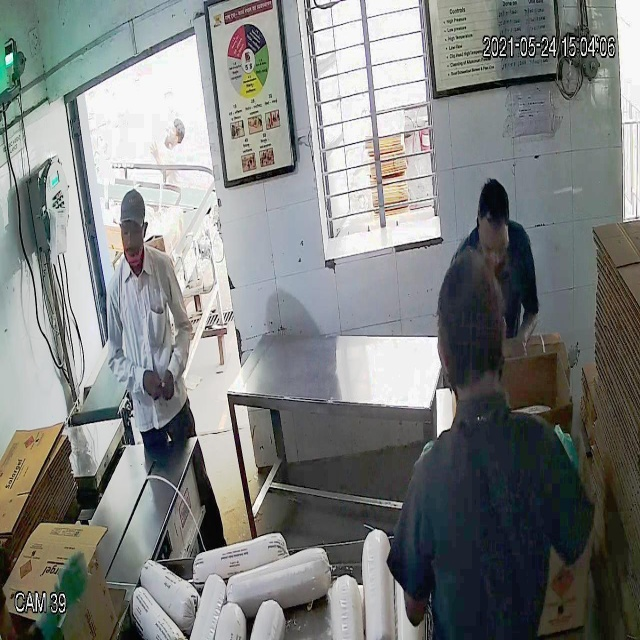Sin_gafas: (119, 220, 148, 245)
